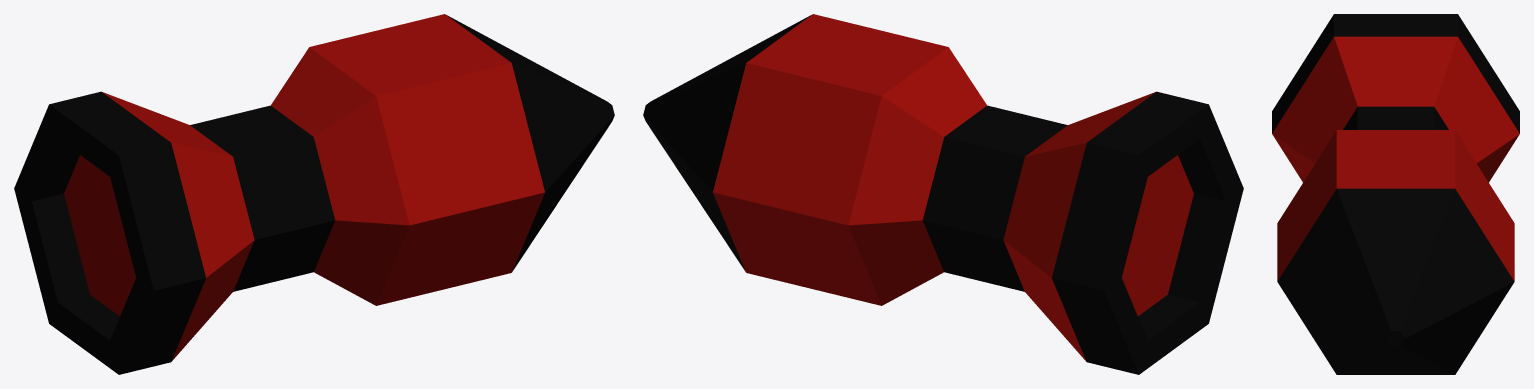
File: FeuerUndEis.fbx
3 views of the same model, side by side, from view 1: azimuth 30°, elevation 25°; view 2: azimuth 150°, elevation 25°; view 3: azimuth 270°, elevation 25° (orthographic). The views are drawn at different scales.
Visible parts, largest first — view 1: Cylinder; view 2: Cylinder; view 3: Cylinder.
Boxes of the visible parts, box(x1,y1,x2,y2) form: Cylinder: box(14, 14, 614, 374); Cylinder: box(643, 14, 1243, 374); Cylinder: box(1272, 14, 1519, 374).
Size of the model in its own units: 52.69 by 21.02 by 24.27.
